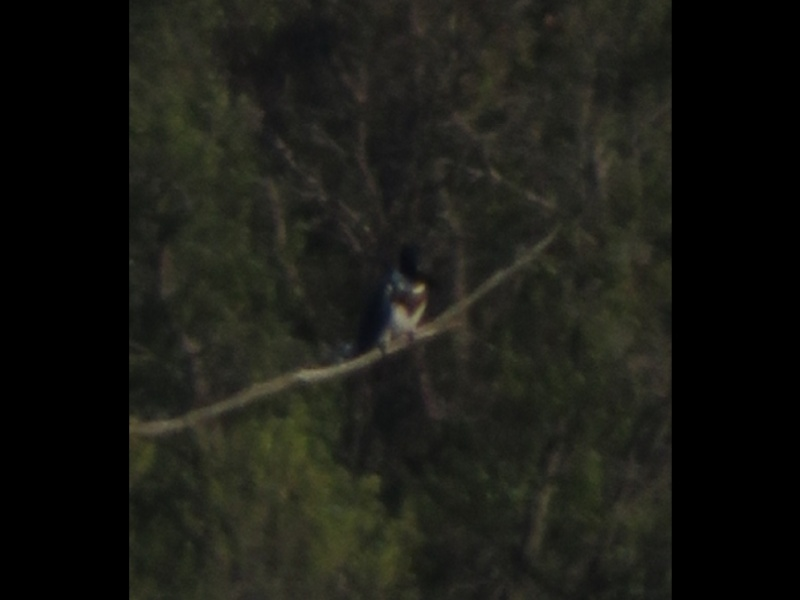kingfisher: (348, 242, 435, 361)
